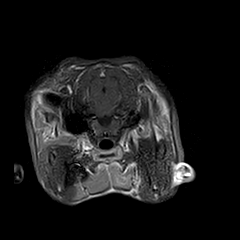Brain: (55, 42, 154, 140)
